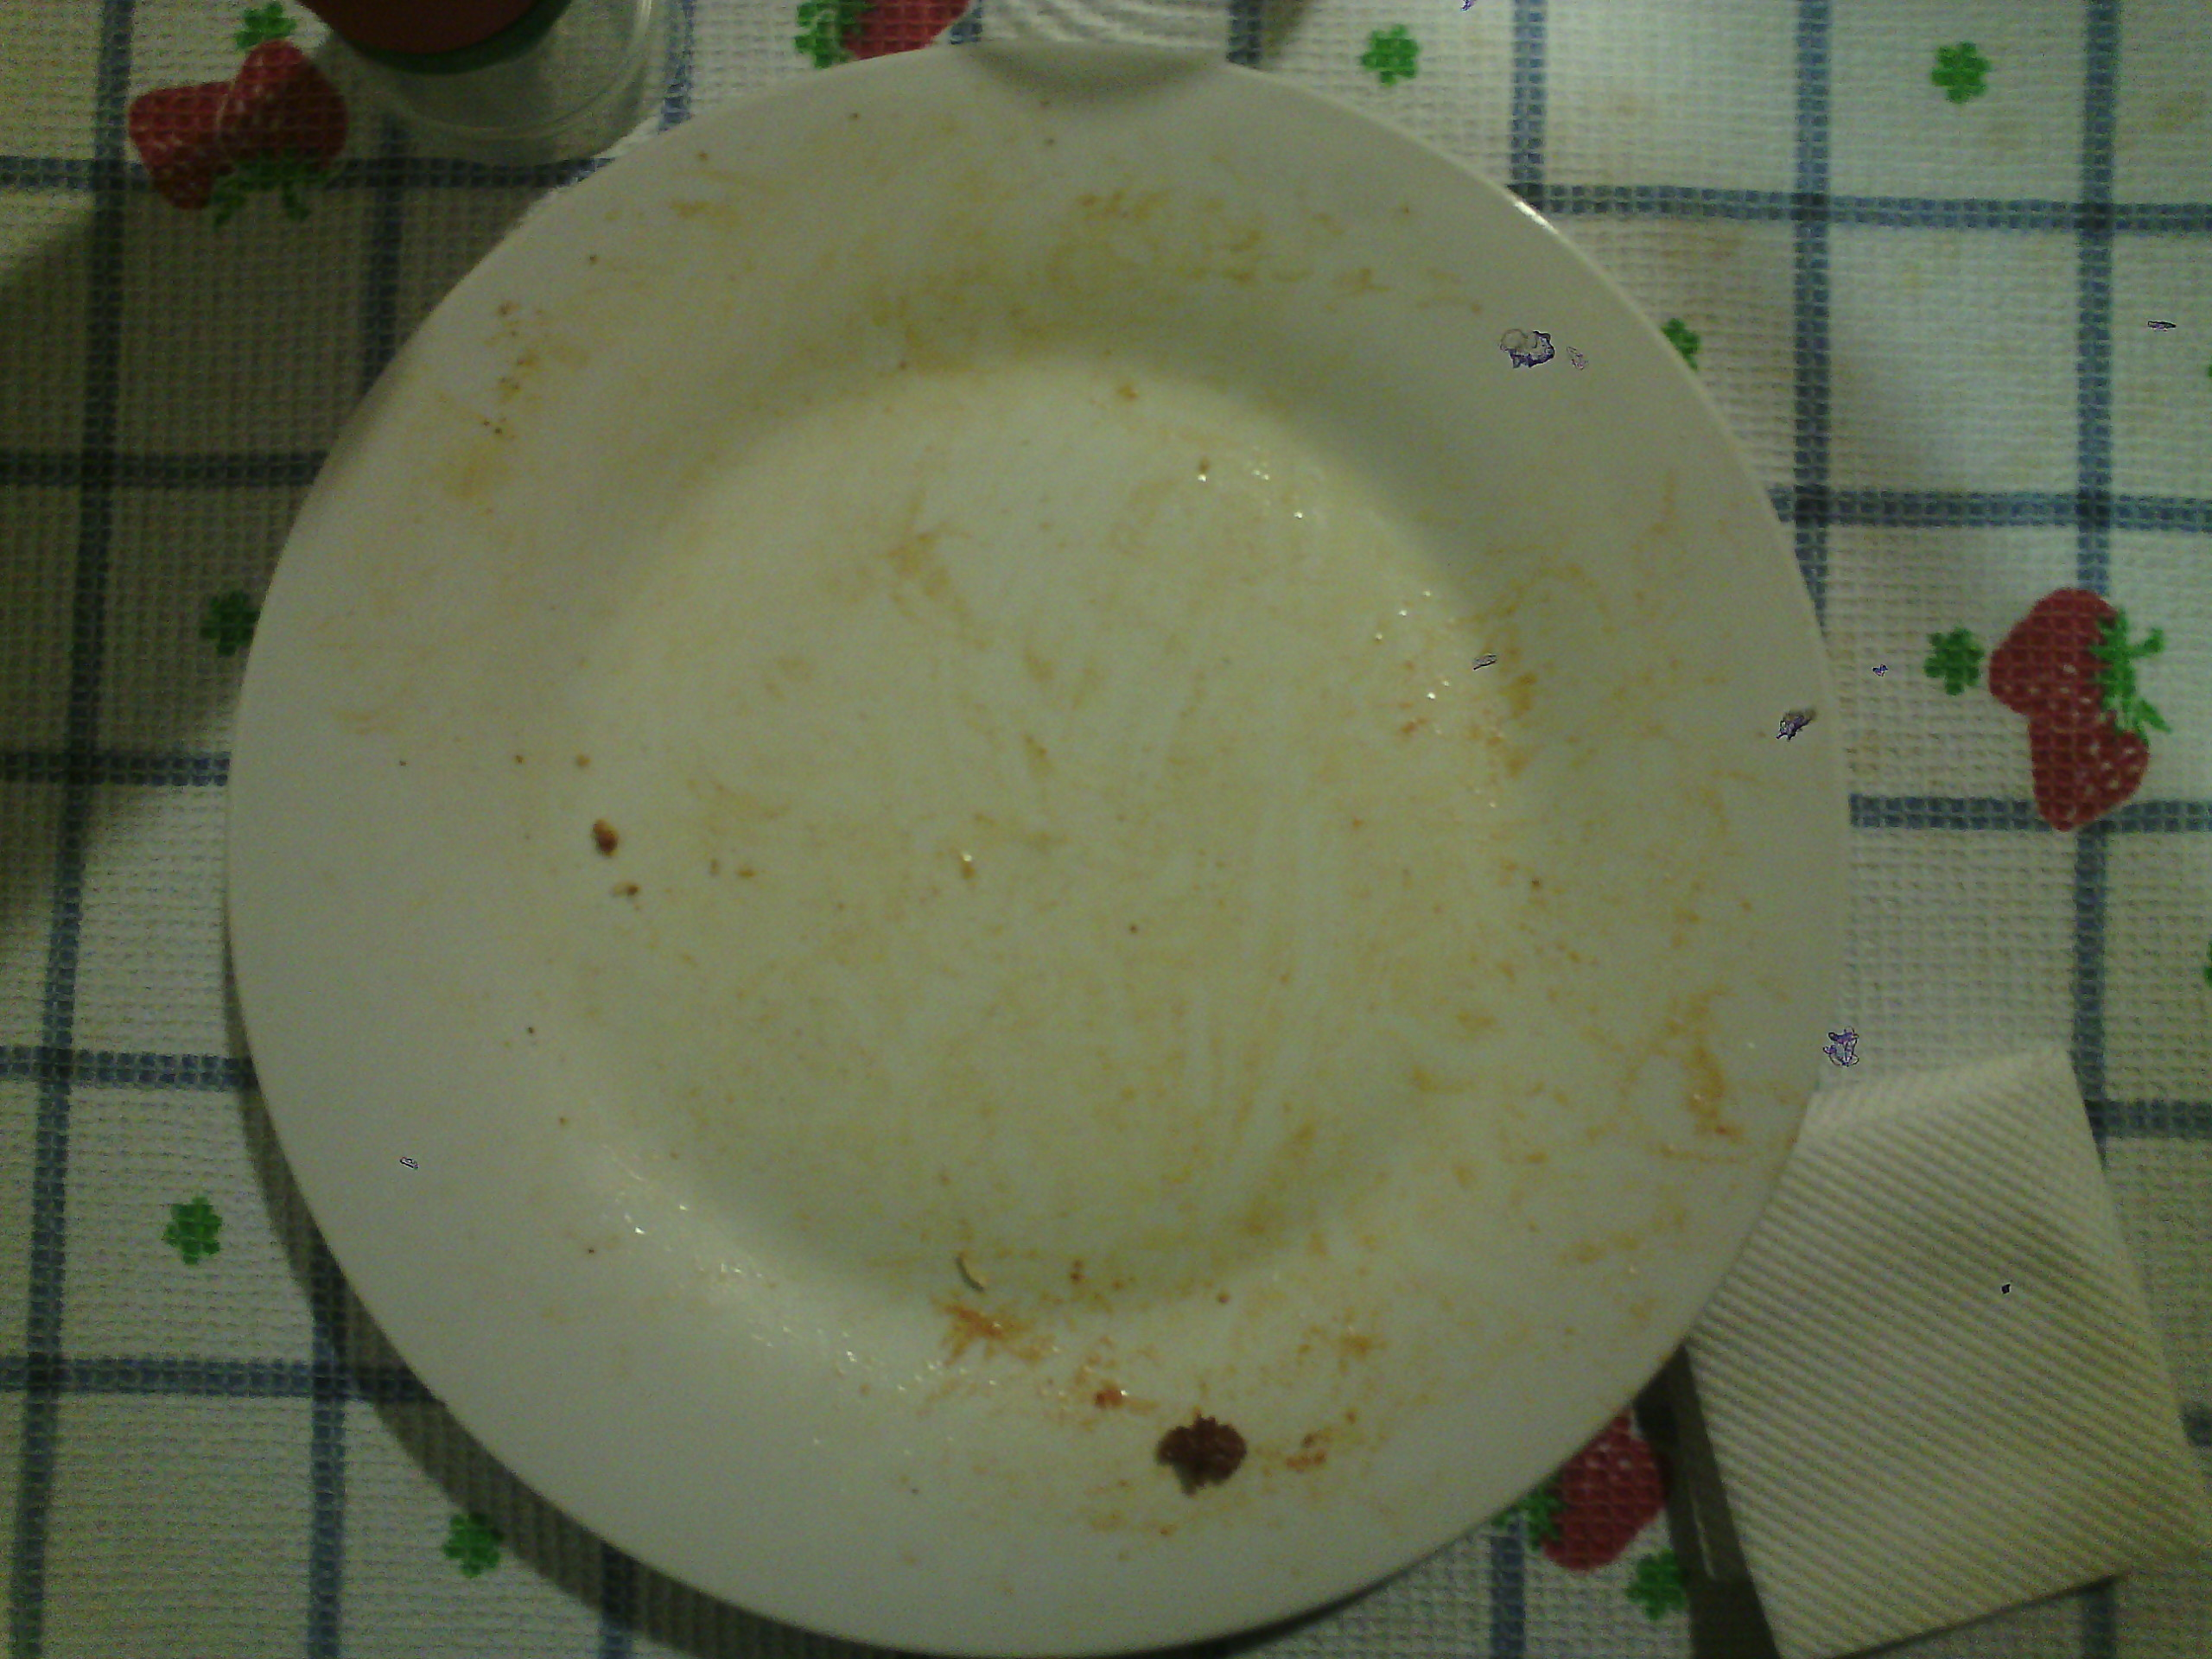0-20: (249, 52, 1841, 1652)
